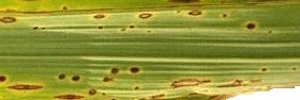RiceBrownSpot: (1, 4, 263, 36), (1, 62, 296, 89)
